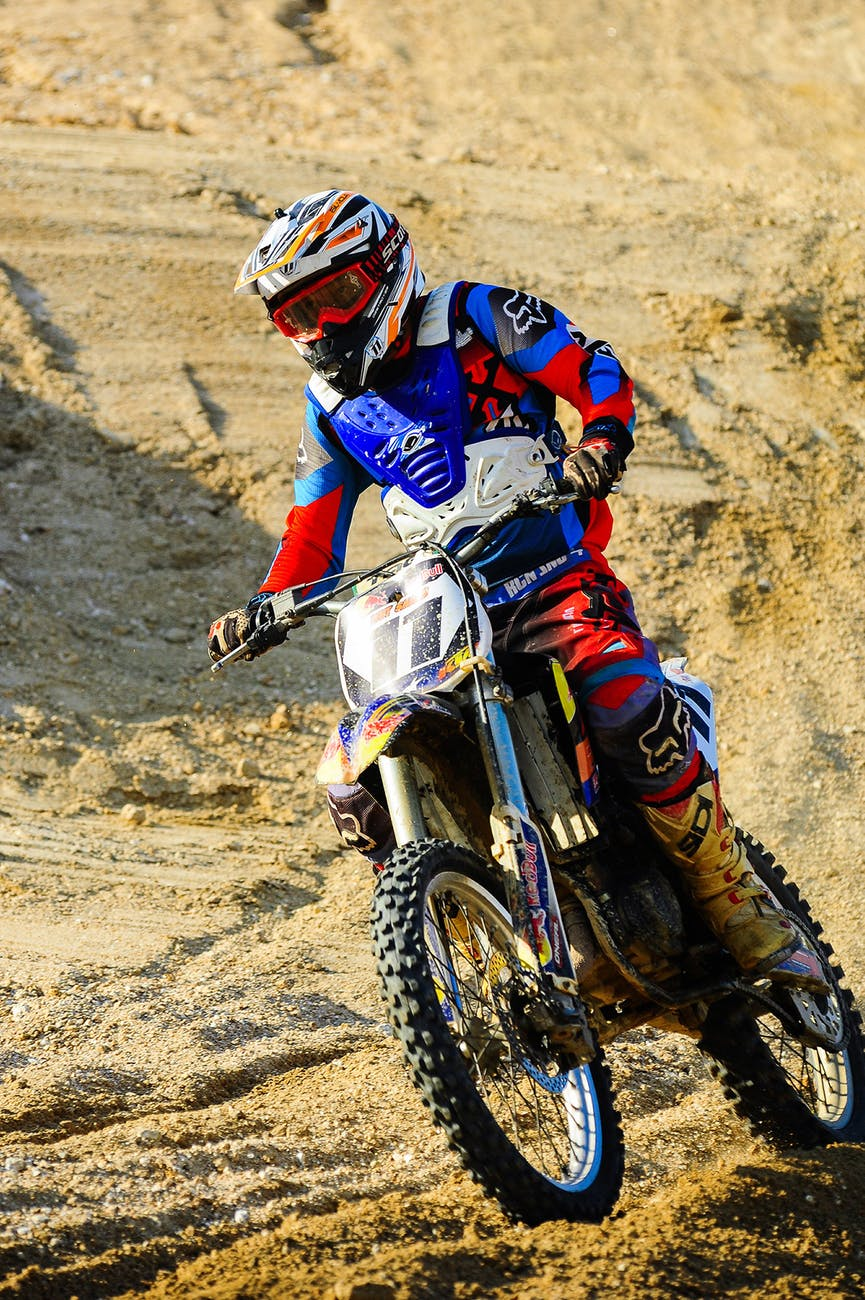helmet: (249, 195, 425, 391)
